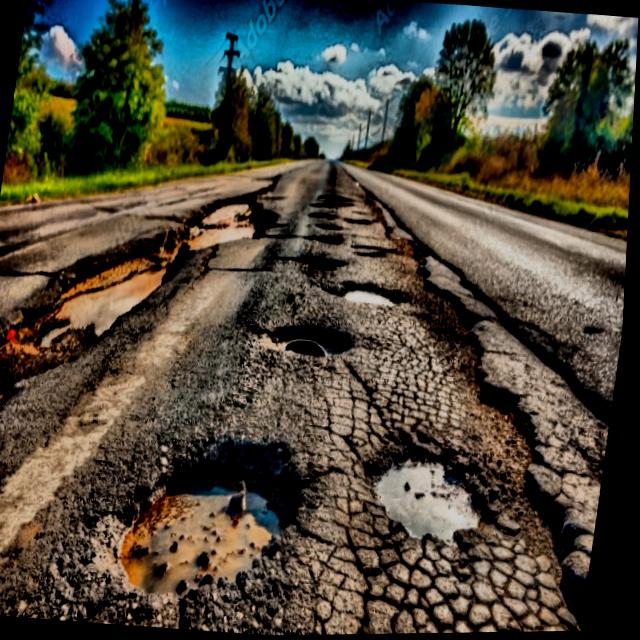pothole: (116, 443, 301, 599), (373, 449, 484, 545)
